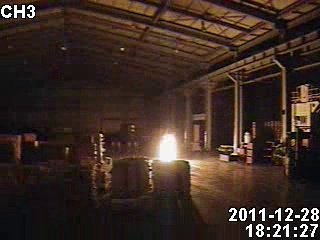fire: (155, 132, 179, 162)
